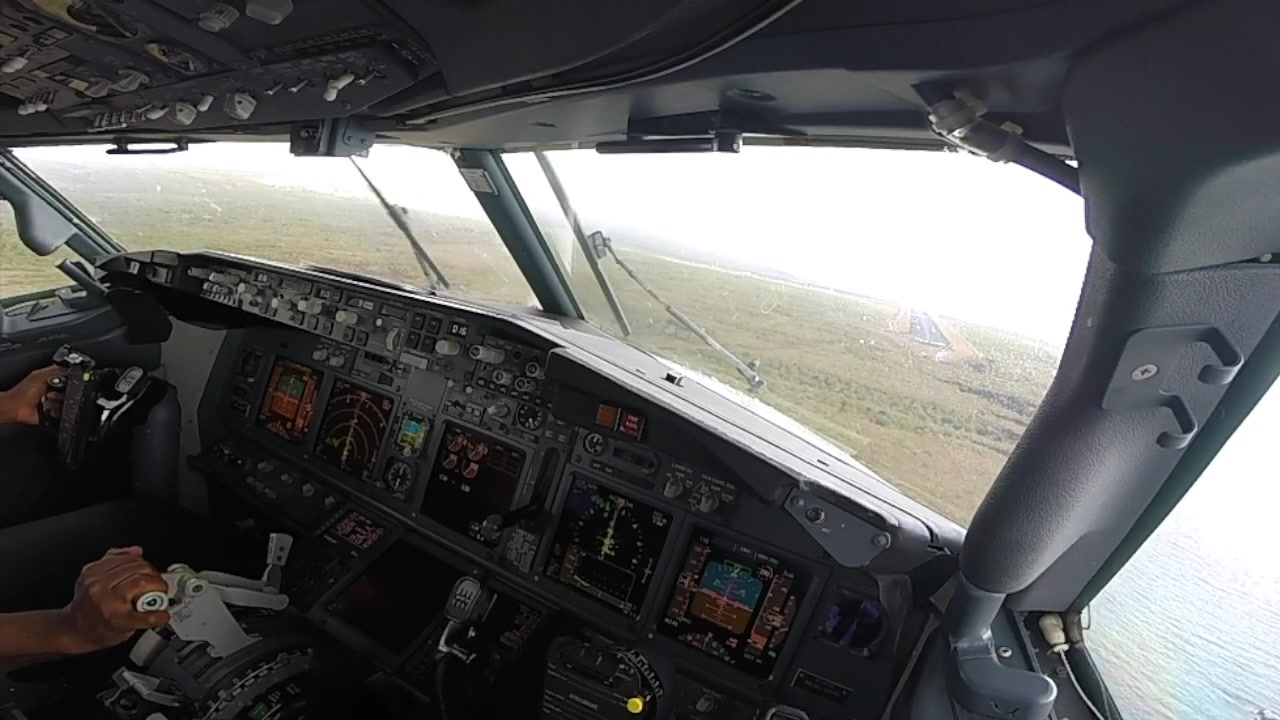runway: (904, 310, 959, 350)
